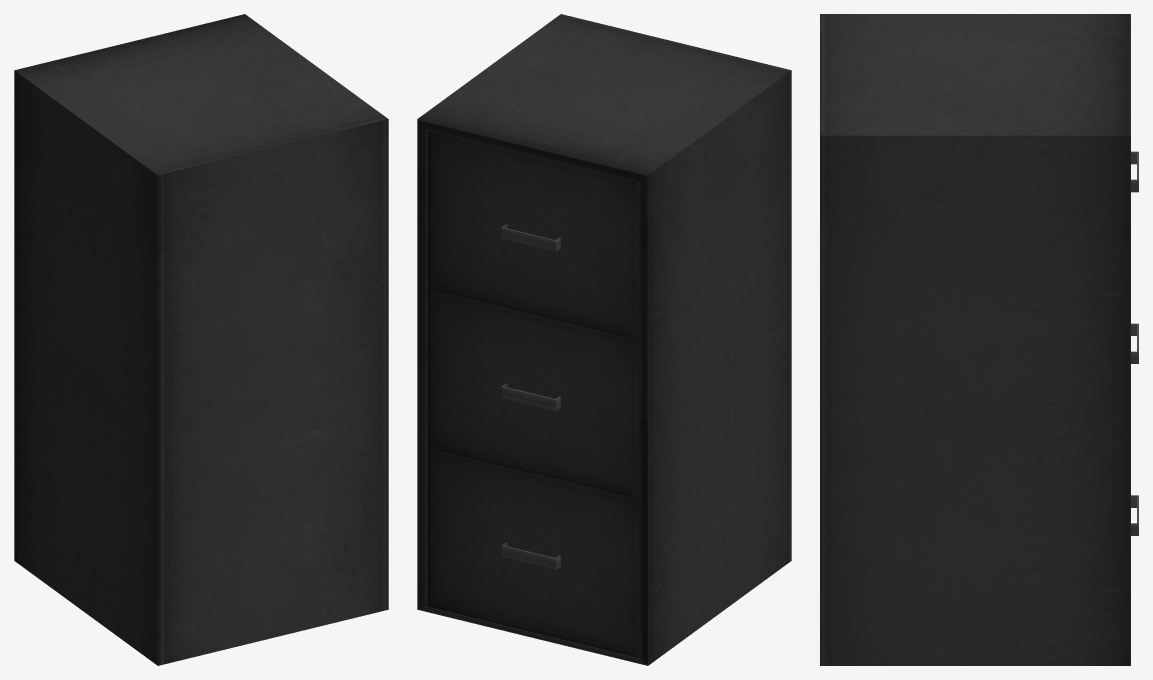
File: Cabinet3.fbx
3 renders of one model, left to right at view 1: azimuth 30°, elevation 25°; view 2: azimuth 150°, elevation 25°; view 3: azimuth 270°, elevation 25°, orthographic. The views are drawn at different scales.
Parts seen in each view (by area): view 1: Cabinet3; view 2: Cabinet3, Cabinet3drawer; view 3: Cabinet3.
Part boxes in pixels (x1=…): Cabinet3: x1=14, y1=14, x2=388, y2=665; Cabinet3: x1=417, y1=14, x2=791, y2=665; Cabinet3drawer: x1=428, y1=131, x2=638, y2=340; Cabinet3: x1=820, y1=14, x2=1138, y2=665.
Bounding box in the file's own units: 0.4837 × 0.9823 × 0.5352.
